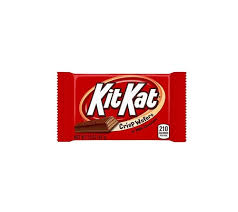kitkat: (55, 71, 189, 144)
